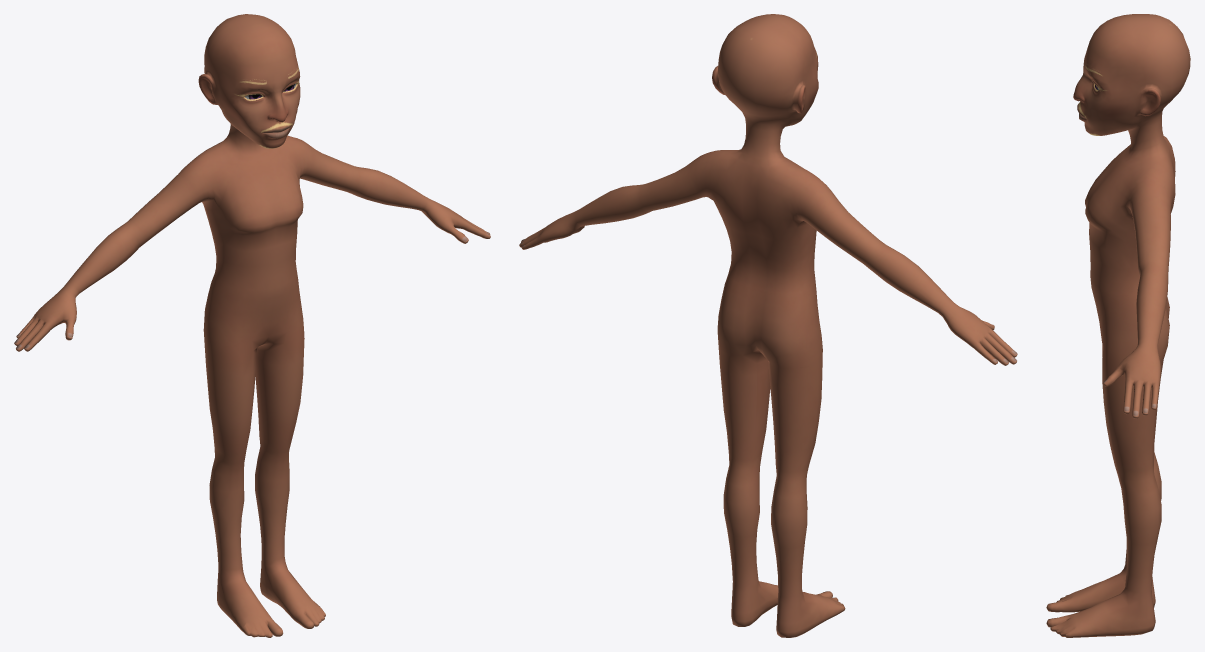
The model's file is frame_0085.glb.
3 views of the same model, side by side, from view 1: azimuth 30°, elevation 25°; view 2: azimuth 150°, elevation 25°; view 3: azimuth 270°, elevation 25° (orthographic). The views are drawn at different scales.
Visible parts, largest first — view 1: frame_0085_head_geo; view 2: frame_0085_head_geo; view 3: frame_0085_head_geo.
Part boxes in pixels (x1,y1,x2,y2): frame_0085_head_geo: (14, 14, 490, 637); frame_0085_head_geo: (519, 14, 1017, 637); frame_0085_head_geo: (1046, 14, 1190, 637).
Size of the model in its own units: 1.28 by 1.5 by 0.3253.
3 materials, 3 textured.
